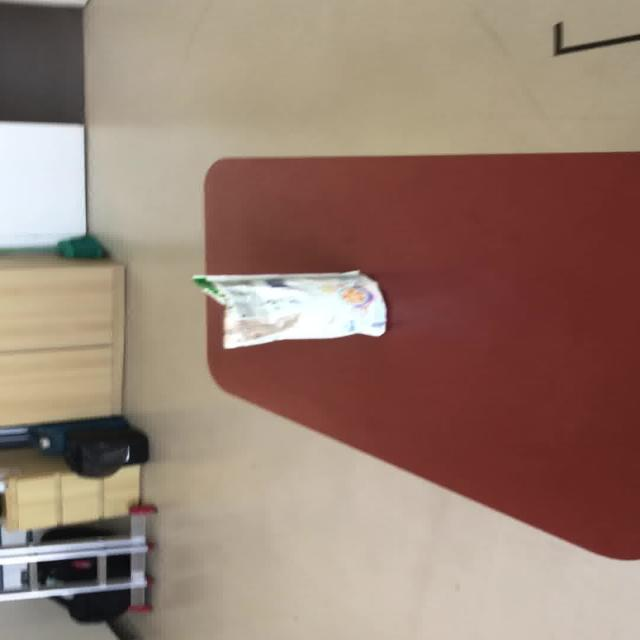corn flakes: (190, 268, 387, 349)
